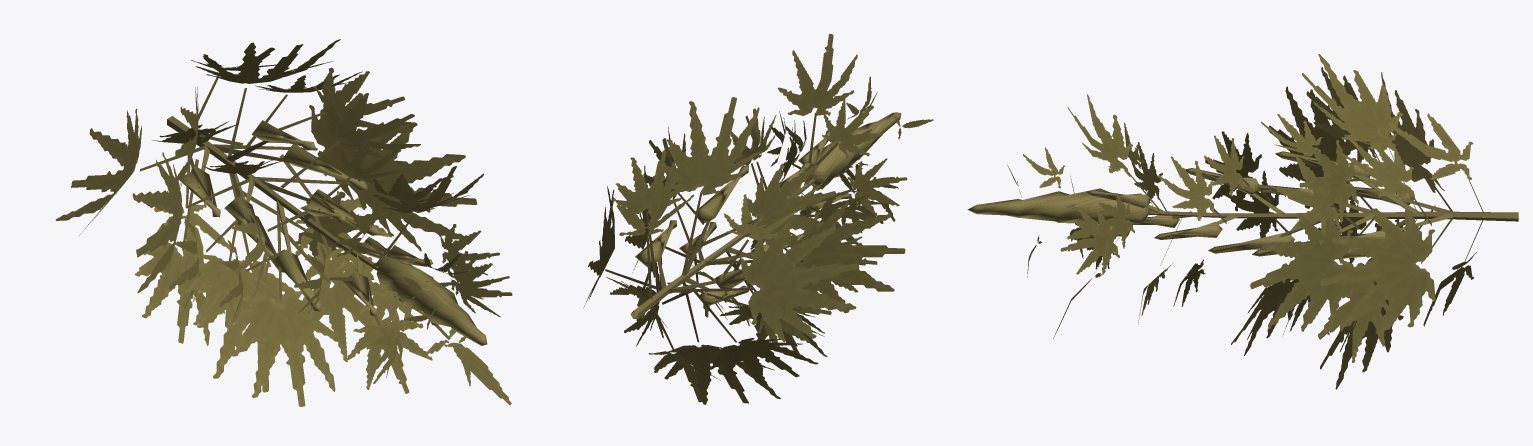
File: p_landrace_flowering_c2_cards.obj
3 views of the same model, side by side, from view 1: azimuth 30°, elevation 25°; view 2: azimuth 150°, elevation 25°; view 3: azimuth 270°, elevation 25° (orthographic). The views are drawn at different scales.
Size of the model in its own units: 1.61 by 1.6 by 2.12.
Materials: 1 (1 with a texture image).
